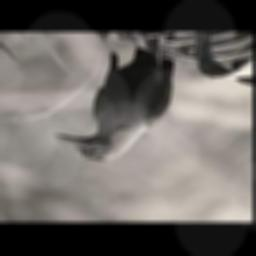Crow: (53, 33, 175, 162)
